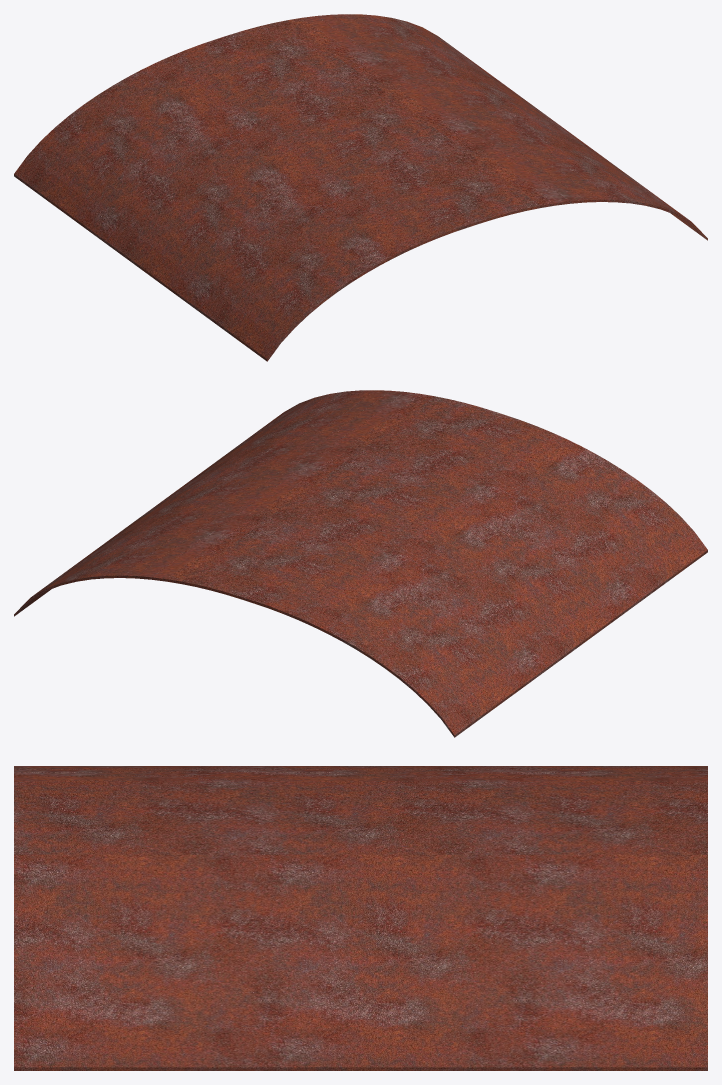
The model's file is court roof.fbx.
3 renders of one model, top to bottom at view 1: azimuth 30°, elevation 25°; view 2: azimuth 150°, elevation 25°; view 3: azimuth 270°, elevation 25°, orthographic. The views are drawn at different scales.
Parts seen in each view (by area): view 1: Plane.081; view 2: Plane.081; view 3: Plane.081.
Boxes of the visible parts, bbox=[...] form: Plane.081: bbox=[14, 14, 707, 361]; Plane.081: bbox=[14, 390, 707, 737]; Plane.081: bbox=[14, 766, 707, 1070].
Bounding box in the file's own units: 9060 × 1774 × 9017.
